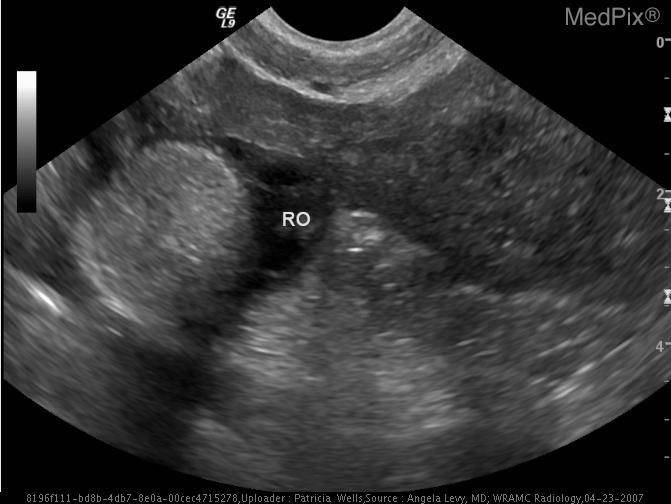Uterine fibroids: (71, 139, 267, 336)
